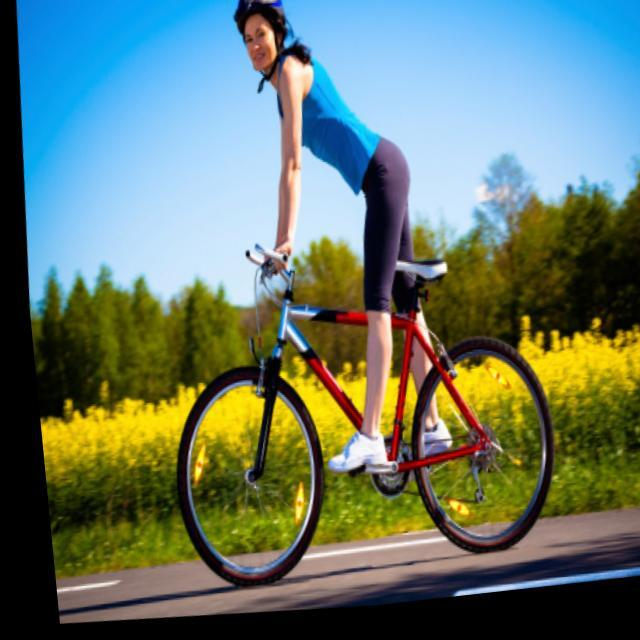Helmet: (224, 0, 304, 78)
